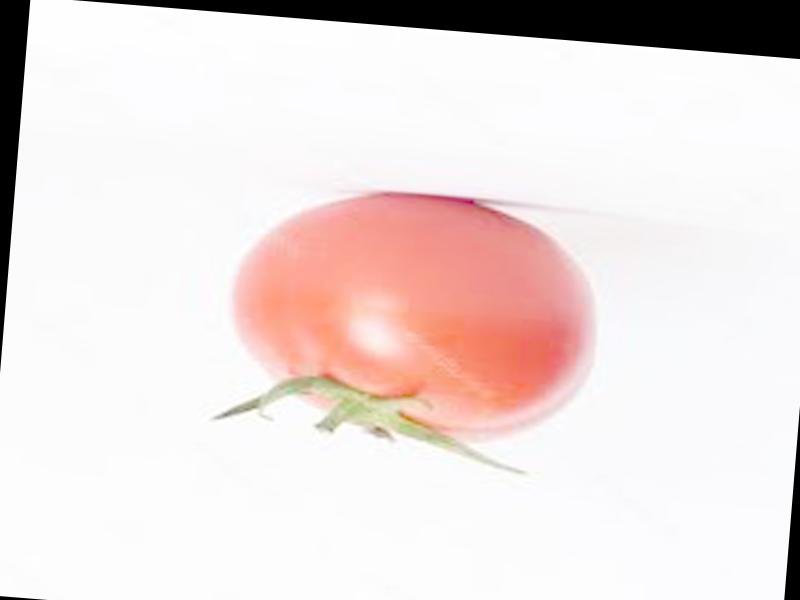Tomato: (223, 178, 611, 449)
